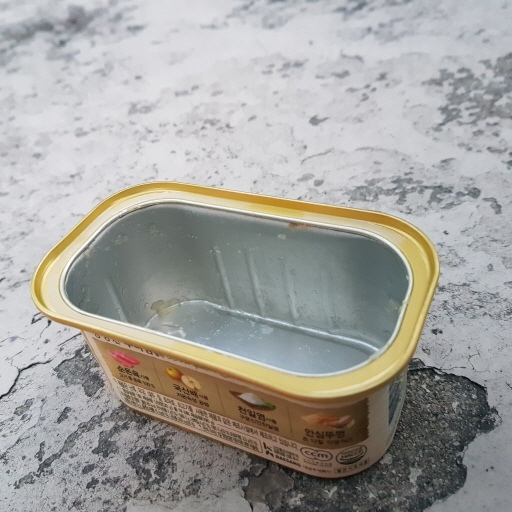Metal_2: (30, 180, 443, 481)
